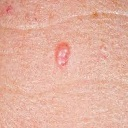Carcinoma: (54, 43, 72, 68)
